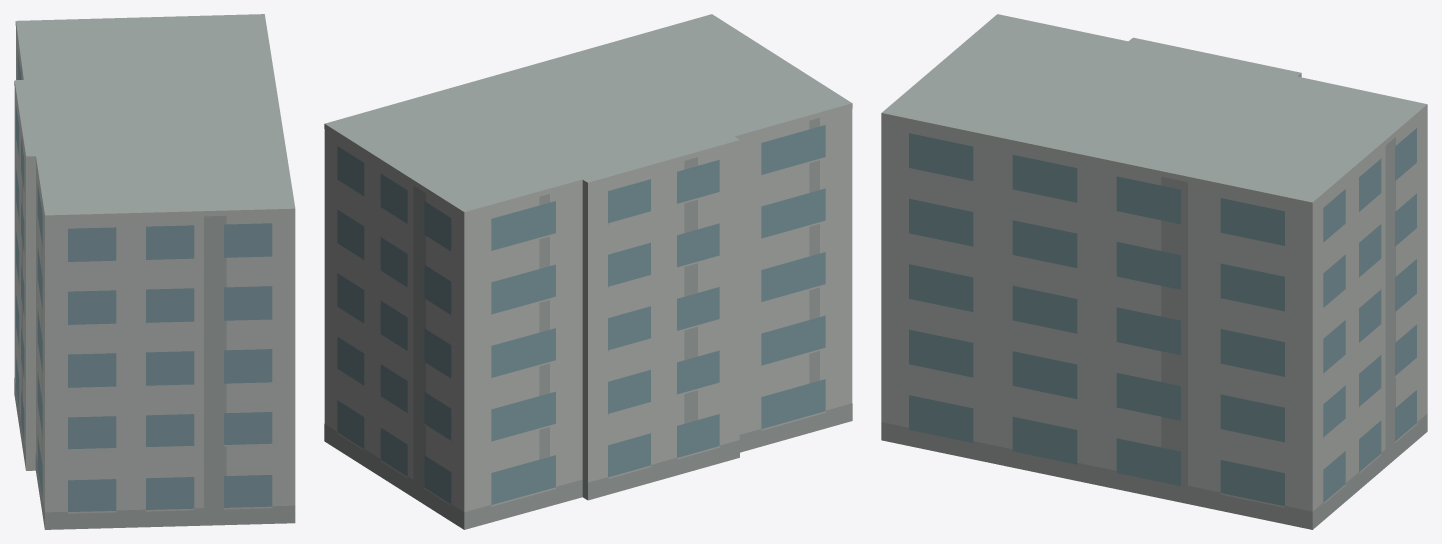
Rendered from survey-upis-32967277.glb.
3 renders of one model, left to right at view 1: azimuth 30°, elevation 25°; view 2: azimuth 150°, elevation 25°; view 3: azimuth 270°, elevation 25°, orthographic. The views are drawn at different scales.
Parts seen in each view (by area): view 1: survey-upis-32967277.tmp; view 2: survey-upis-32967277.tmp; view 3: survey-upis-32967277.tmp.
Boxes of the visible parts, x1,y1,x2,y2 form: survey-upis-32967277.tmp: [14, 14, 295, 529]; survey-upis-32967277.tmp: [324, 14, 852, 529]; survey-upis-32967277.tmp: [881, 14, 1427, 529].
Bounding box in the file's own units: 18.04 × 14.6 × 22.08.
